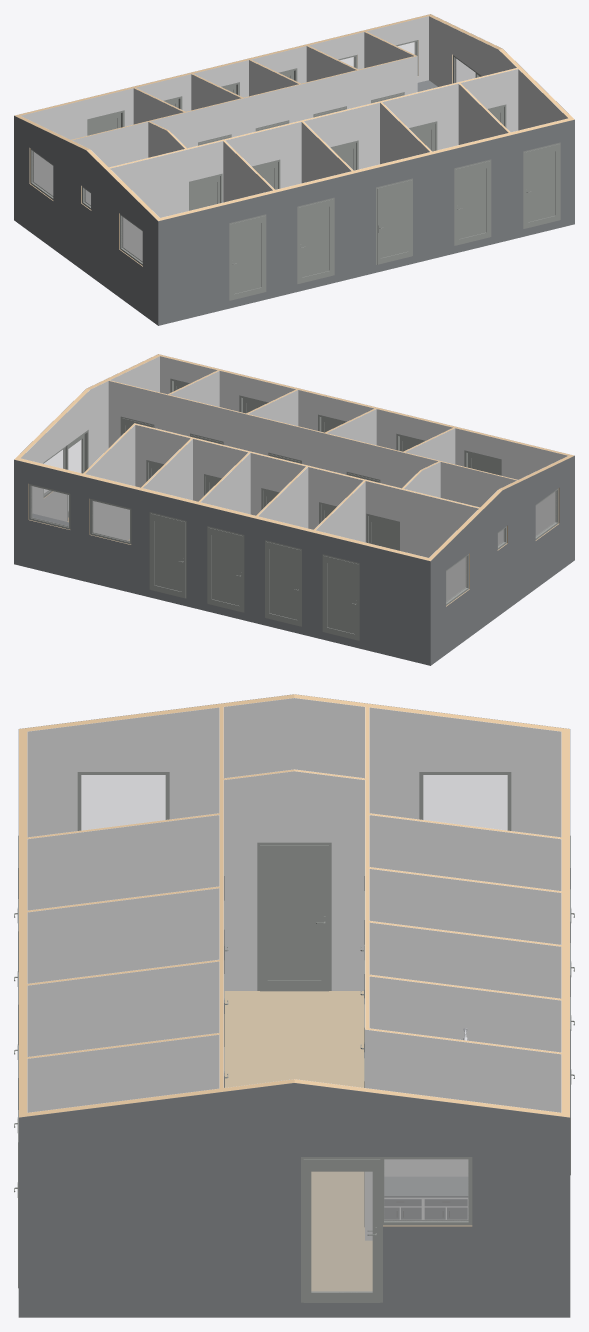
Rendered from Šuniukai(7,2x12,0m)_R00.fbx.
3 renders of one model, top to bottom at view 1: azimuth 30°, elevation 25°; view 2: azimuth 150°, elevation 25°; view 3: azimuth 270°, elevation 25°, orthographic. The views are drawn at different scales.
Visible parts, largest first — view 1: IfcBuildingElementPart/Part:2336143, IfcBuildingElementPart/Part:2336140, IfcBuildingElementPart/Part:2336148, IfcBuildingElementPart/Part:2336131, IfcDoor/Simple_vitree_-_1:1000x2100 nepermatomos durys:23240 (×2), IfcBuildingElementPart/Part:2336129, IfcBuildingElementPart/Part:2336145, IfcDoor/Simple_vitree_-_1:1000x2100 nepermatomos durys:23235, IfcDoor/Simple_vitree_-_1:1000x2100 nepermatomos durys:23238, IfcDoor/Simple_vitree_-_1:1000x2100 nepermatomos durys:23239, IfcBuildingElementPart/Part:2336127, IfcBuildingElementPart/Part:2336125 (+25 smaller); view 2: IfcBuildingElementPart/Part:2336149, IfcBuildingElementPart/Part:2336140, IfcBuildingElementPart/Part:2336123, IfcBuildingElementPart/Part:2336142, IfcDoor/Simple_vitree_-_1:1000x2100 nepermatomos durys:23220 (×2), IfcBuildingElementPart/Part:2336145, IfcBuildingElementPart/Part:2336137, IfcDoor/Simple_vitree_-_1:1000x2100 nepermatomos durys:23216, IfcDoor/Simple_vitree_-_1:1000x2100 nepermatomos durys:23217, IfcBuildingElementPart/Part:2336106, IfcBuildingElementPart/Part:2336124, IfcBuildingElementPart/Part:2336134 (+24 smaller); view 3: IfcBuildingElementPart/Part:2336146, IfcBuildingElementPart/Part:2336139, IfcBuildingElementPart/Part:2336151, IfcBuildingElementPart/Part:2336117, IfcWindow/Aluprof_MB-86-SI_E_Alu_Window-1sash-FIX_ENG_R-000. (×3), IfcBuildingElementPart/Part:2336102, IfcBuildingElementPart/Part:2336096, IfcBuildingElementPart/Part:2336099, IfcBuildingElementPart/Part:2336105, IfcDoor/Simple_vitree_-_1:1000x2100:2323244, IfcDoor/Simple_vitree_-_1:900x2100 nepermatomos durys:232461, IfcBuildingElementPart/Part:2336093 (+12 smaller).
Part boxes in pixels (<box>): IfcBuildingElementPart/Part:2336143: <box>158,119,574,325</box>; IfcBuildingElementPart/Part:2336140: <box>14,115,158,325</box>; IfcBuildingElementPart/Part:2336148: <box>20,16,428,195</box>; IfcBuildingElementPart/Part:2336131: <box>150,56,417,148</box>; IfcDoor/Simple_vitree_-_1:1000x2100 nepermatomos durys:23240 (×2): <box>229,197,334,300</box>; IfcBuildingElementPart/Part:2336129: <box>110,141,223,260</box>; IfcBuildingElementPart/Part:2336145: <box>429,16,567,130</box>; IfcDoor/Simple_vitree_-_1:1000x2100 nepermatomos durys:23235: <box>523,142,560,228</box>; IfcDoor/Simple_vitree_-_1:1000x2100 nepermatomos durys:23238: <box>454,159,491,245</box>; IfcDoor/Simple_vitree_-_1:1000x2100 nepermatomos durys:23239: <box>376,178,412,264</box>; IfcBuildingElementPart/Part:2336127: <box>382,83,458,150</box>; IfcBuildingElementPart/Part:2336125: <box>225,122,301,188</box>; IfcBuildingElementPart/Part:2336149: <box>14,459,430,665</box>; IfcBuildingElementPart/Part:2336140: <box>430,455,574,665</box>; IfcBuildingElementPart/Part:2336123: <box>108,381,438,488</box>; IfcBuildingElementPart/Part:2336142: <box>160,356,568,535</box>; IfcDoor/Simple_vitree_-_1:1000x2100 nepermatomos durys:23220 (×2): <box>149,512,244,612</box>; IfcBuildingElementPart/Part:2336145: <box>21,356,159,521</box>; IfcBuildingElementPart/Part:2336137: <box>365,481,478,600</box>; IfcDoor/Simple_vitree_-_1:1000x2100 nepermatomos durys:23216: <box>322,554,359,640</box>; IfcDoor/Simple_vitree_-_1:1000x2100 nepermatomos durys:23217: <box>265,540,301,626</box>; IfcBuildingElementPart/Part:2336106: <box>85,425,135,540</box>; IfcBuildingElementPart/Part:2336124: <box>440,462,516,544</box>; IfcBuildingElementPart/Part:2336134: <box>250,453,305,515</box>; IfcBuildingElementPart/Part:2336146: <box>18,1083,569,1317</box>; IfcBuildingElementPart/Part:2336139: <box>27,698,561,837</box>; IfcBuildingElementPart/Part:2336151: <box>224,991,372,1291</box>; IfcBuildingElementPart/Part:2336117: <box>224,771,364,990</box>; IfcWindow/Aluprof_MB-86-SI_E_Alu_Window-1sash-FIX_ENG_R-000. (×3): <box>77,772,511,1225</box>; IfcBuildingElementPart/Part:2336102: <box>27,815,219,910</box>; IfcBuildingElementPart/Part:2336096: <box>27,961,219,1056</box>; IfcBuildingElementPart/Part:2336099: <box>27,888,219,983</box>; IfcBuildingElementPart/Part:2336105: <box>365,1029,561,1240</box>; IfcDoor/Simple_vitree_-_1:1000x2100:2323244: <box>301,1157,382,1302</box>; IfcDoor/Simple_vitree_-_1:900x2100 nepermatomos durys:232461: <box>257,842,331,991</box>; IfcBuildingElementPart/Part:2336093: <box>27,1034,219,1112</box>.
Bounding box in the file's own units: 1206 × 338 × 732.
